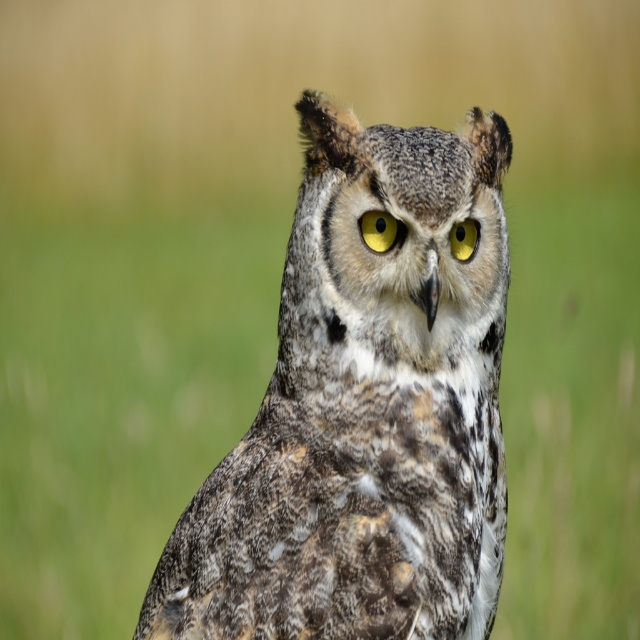Owl: (132, 88, 514, 640)
